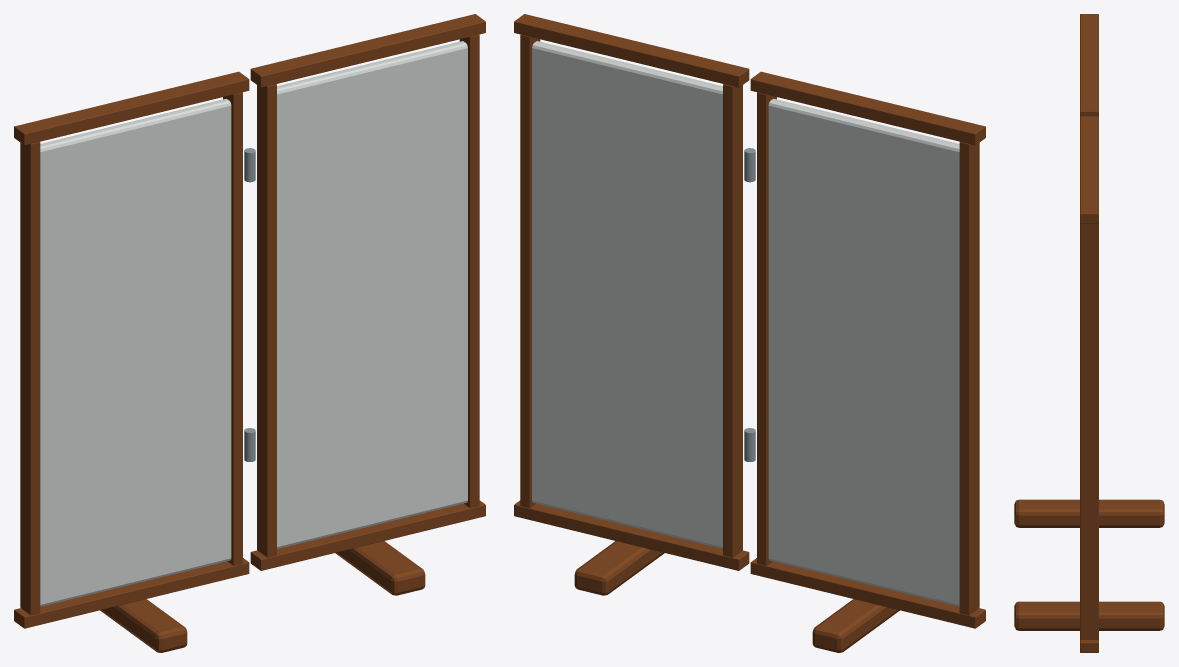
File: edited.glb
The picture shows the model from 3 angles, left to right: view 1: azimuth 30°, elevation 25°; view 2: azimuth 150°, elevation 25°; view 3: azimuth 270°, elevation 25°; orthographic projection. The views are drawn at different scales.
Visible parts, largest first — view 1: PANEL_Fabric, PANEL_Fabric.001, FRAME_Stile, FRAME_Stile.002, FRAME_Stile.003, FRAME_Stile.001, FRAME_Rail.001, FRAME_Rail.003, FRAME_Rail.002, FRAME_Rail, FOOT.001, FOOT; view 2: PANEL_Fabric, PANEL_Fabric.001, FRAME_Stile, FRAME_Stile.002, FRAME_Stile.003, FRAME_Stile.001, FRAME_Rail.001, FRAME_Rail.003, FRAME_Rail.002, FRAME_Rail, FOOT.001, FOOT; view 3: FRAME_Stile.003, FOOT.001, FOOT, FRAME_Rail.003, FRAME_Rail.001, FRAME_Rail.002.
Part boxes in pixels (x1,y1,x2,y2): PANEL_Fabric: (40,98,231,606); PANEL_Fabric.001: (277,41,467,548); FRAME_Stile: (20,142,40,615); FRAME_Stile.002: (257,84,276,557); FRAME_Stile.003: (459,34,479,507); FRAME_Stile.001: (223,92,242,565); FRAME_Rail.001: (14,71,249,145); FRAME_Rail.003: (250,14,485,87); FRAME_Rail.002: (250,500,485,570); FRAME_Rail: (14,558,249,628); FOOT.001: (335,541,425,595); FOOT: (100,599,187,652); PANEL_Fabric: (768,98,959,606); PANEL_Fabric.001: (532,41,722,548); FRAME_Stile: (959,142,979,615); FRAME_Stile.002: (723,84,742,557); FRAME_Stile.003: (520,34,540,507); FRAME_Stile.001: (757,92,776,565); FRAME_Rail.001: (750,71,985,145); FRAME_Rail.003: (514,14,749,87); FRAME_Rail.002: (514,500,749,570); FRAME_Rail: (750,558,985,628); FOOT.001: (574,541,664,595); FOOT: (812,599,899,652); FRAME_Stile.003: (1080,224,1098,639); FOOT.001: (1014,601,1164,630); FOOT: (1014,499,1164,527); FRAME_Rail.003: (1080,116,1098,223); FRAME_Rail.001: (1080,14,1098,116); FRAME_Rail.002: (1080,639,1098,652).
Bounding box in the file's own units: 1.64 × 1.76 × 0.52.
